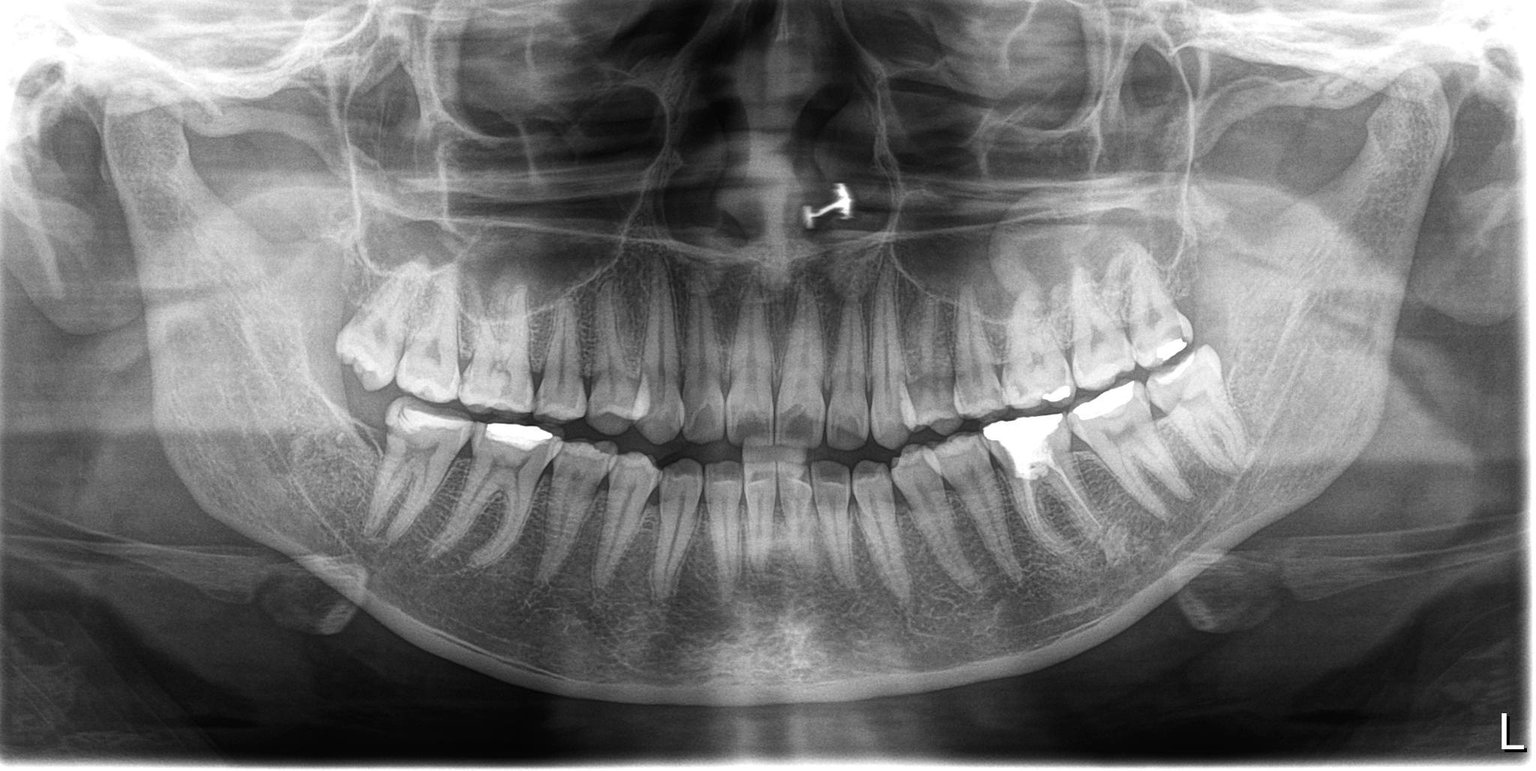Endodontically Treated Tooth: (1005, 424, 1073, 561)
Impacted Third Molar: (326, 384, 391, 524)
